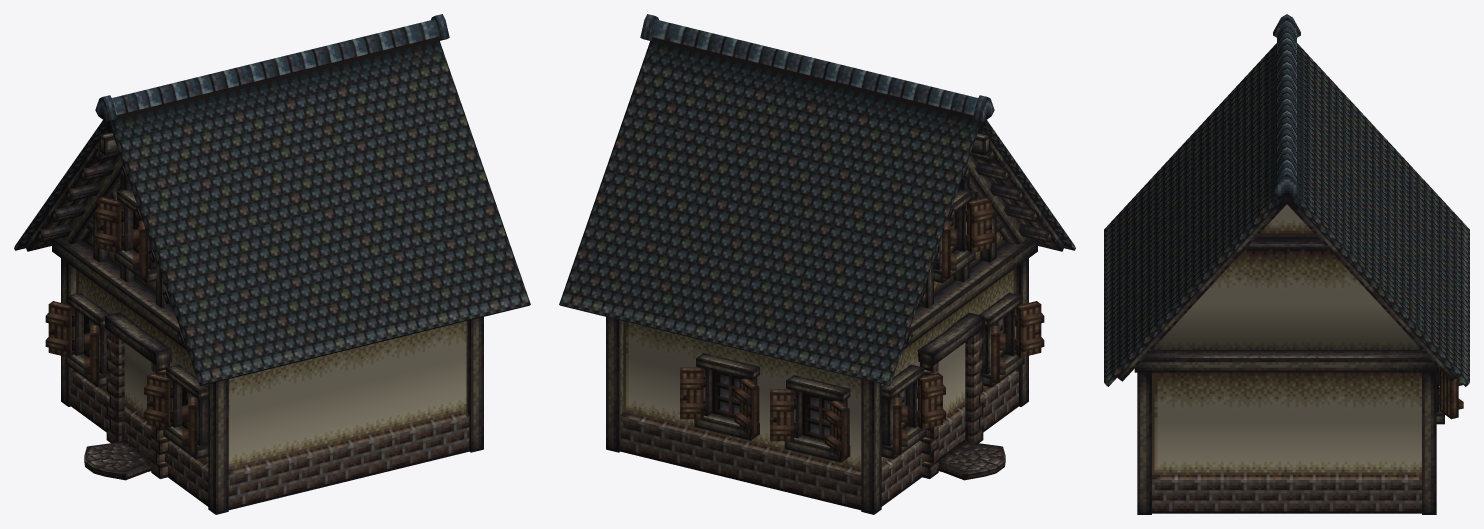
File: EnvBdgMD_Mount_A_Outdoor_Pub.FBX
3 renders of one model, left to right at view 1: azimuth 30°, elevation 25°; view 2: azimuth 150°, elevation 25°; view 3: azimuth 270°, elevation 25°, orthographic. The views are drawn at different scales.
Visible parts, largest first — view 1: EnvBdgMD_Mount_A_Outdoor_Pub; view 2: EnvBdgMD_Mount_A_Outdoor_Pub; view 3: EnvBdgMD_Mount_A_Outdoor_Pub.
Boxes of the visible parts, box(x1,y1,x2,y2) form: EnvBdgMD_Mount_A_Outdoor_Pub: box(14, 14, 530, 514); EnvBdgMD_Mount_A_Outdoor_Pub: box(559, 14, 1075, 514); EnvBdgMD_Mount_A_Outdoor_Pub: box(1104, 14, 1469, 514).
Size of the model in its own units: 685 by 686 by 636.
Materials: 1 (1 with a texture image).
